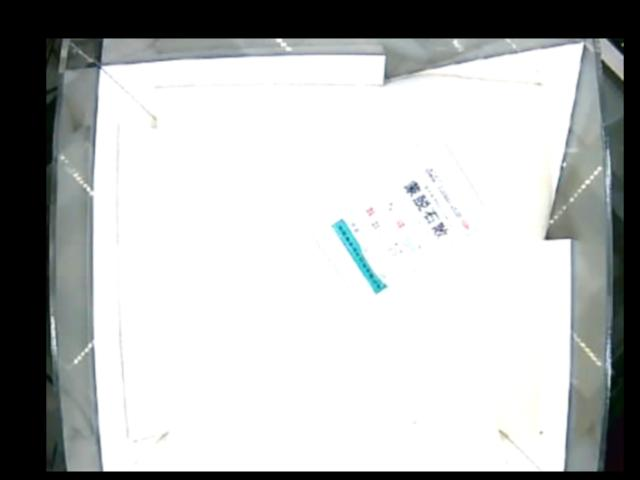Medicine: (305, 135, 488, 302)
